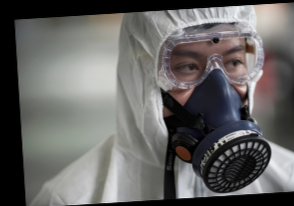with_mask: (161, 34, 263, 158)
